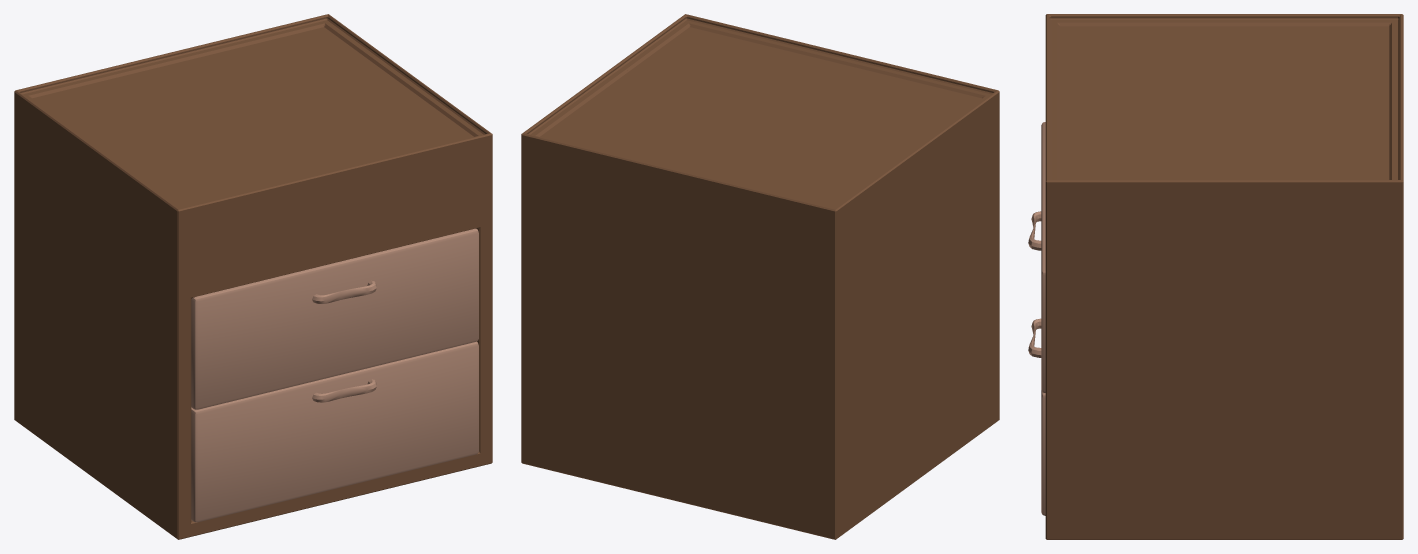
The model's file is Wooden Cabinet Frames.fbx.
3 renders of one model, left to right at view 1: azimuth 30°, elevation 25°; view 2: azimuth 150°, elevation 25°; view 3: azimuth 270°, elevation 25°, orthographic. The views are drawn at different scales.
Parts seen in each view (by area): view 1: Wooden Cabinet Frame, Top Horizontal Drawer, Bottom Horizontal Drawer; view 2: Wooden Cabinet Frame; view 3: Wooden Cabinet Frame, Top Horizontal Drawer, Bottom Horizontal Drawer.
Boxes of the visible parts, bbox=[...] form: Wooden Cabinet Frame: bbox=[14, 14, 492, 539]; Top Horizontal Drawer: bbox=[191, 228, 478, 409]; Bottom Horizontal Drawer: bbox=[191, 341, 478, 522]; Wooden Cabinet Frame: bbox=[521, 14, 999, 539]; Wooden Cabinet Frame: bbox=[1045, 14, 1403, 539]; Top Horizontal Drawer: bbox=[1028, 122, 1045, 392]; Bottom Horizontal Drawer: bbox=[1028, 318, 1045, 515].
Bounding box in the file's own units: 96.05 × 96.05 × 90.87.
